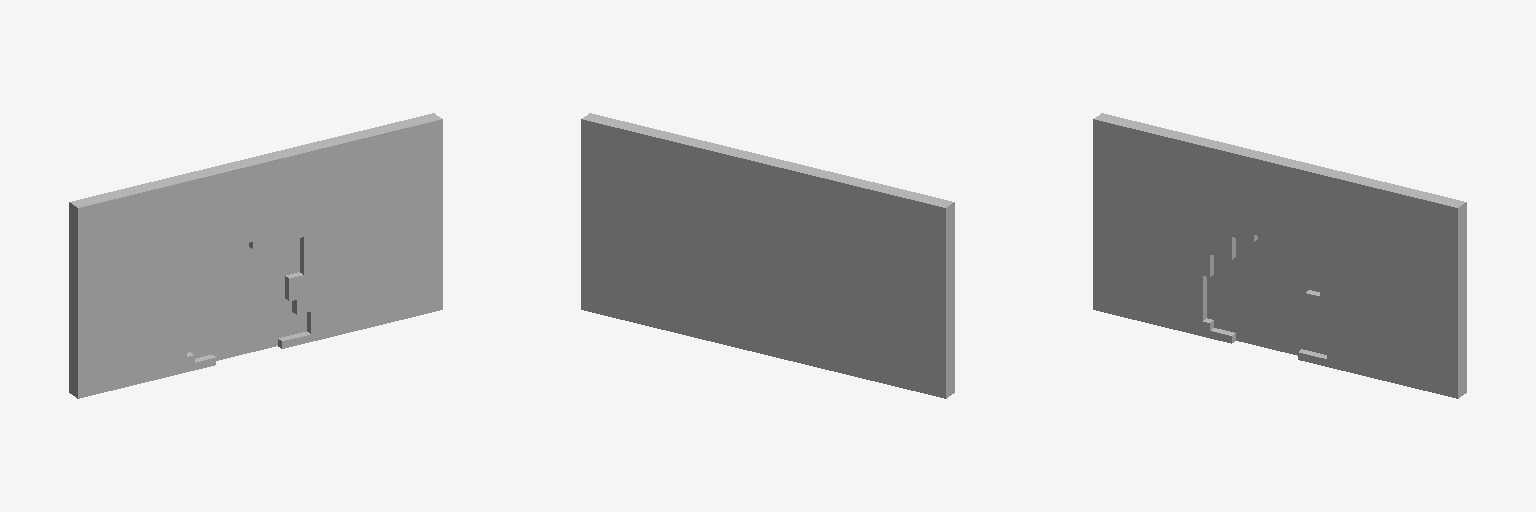
File: Hallway Wall Hole Blue.obj
3 views of the same model, side by side, from view 1: azimuth 30°, elevation 25°; view 2: azimuth 150°, elevation 25°; view 3: azimuth 330°, elevation 25° (orthographic).
Bounding box in the file's own units: 50 × 25 × 2.